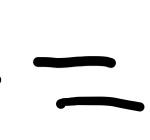eqv: (33, 56, 144, 112)
